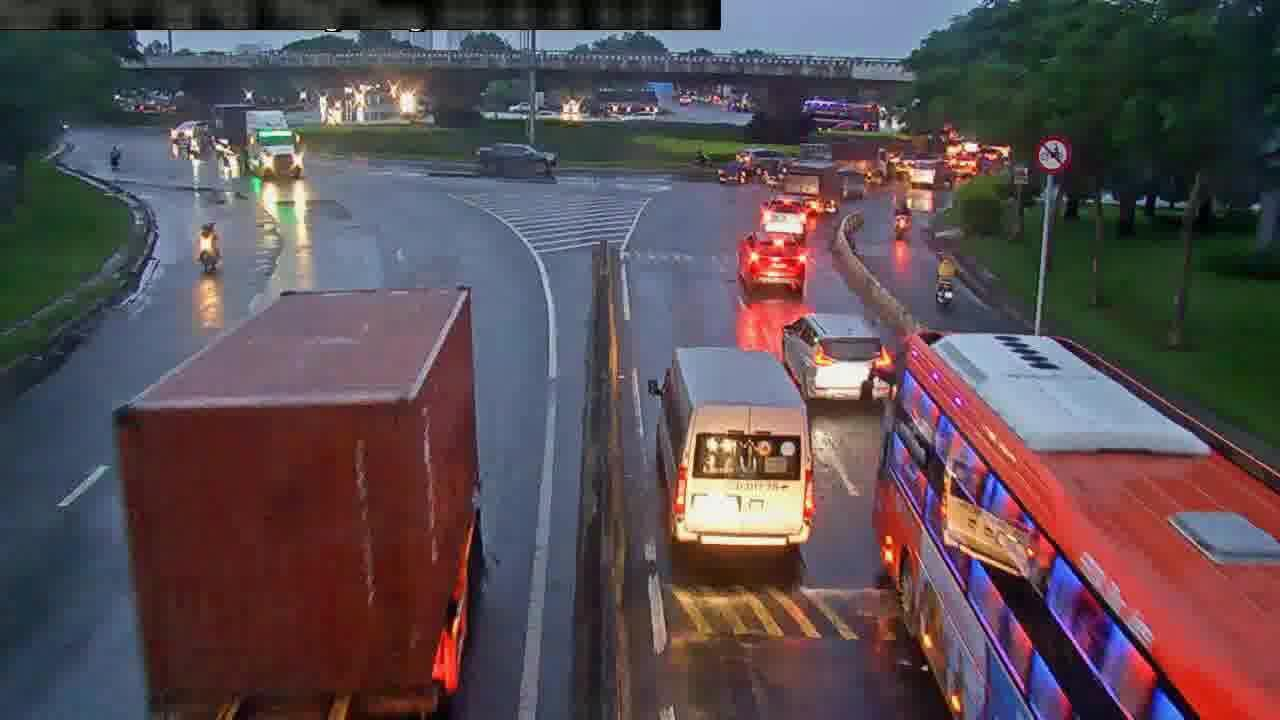14: (887, 325, 1275, 720), (643, 342, 815, 555)
8: (108, 280, 484, 720), (205, 99, 304, 185), (779, 159, 849, 220)
container: (780, 312, 894, 404), (735, 227, 807, 294), (470, 140, 557, 175), (753, 190, 812, 229), (912, 159, 962, 191)
motorbike: (194, 218, 221, 273), (932, 253, 957, 312), (893, 196, 913, 241), (102, 142, 123, 169)
